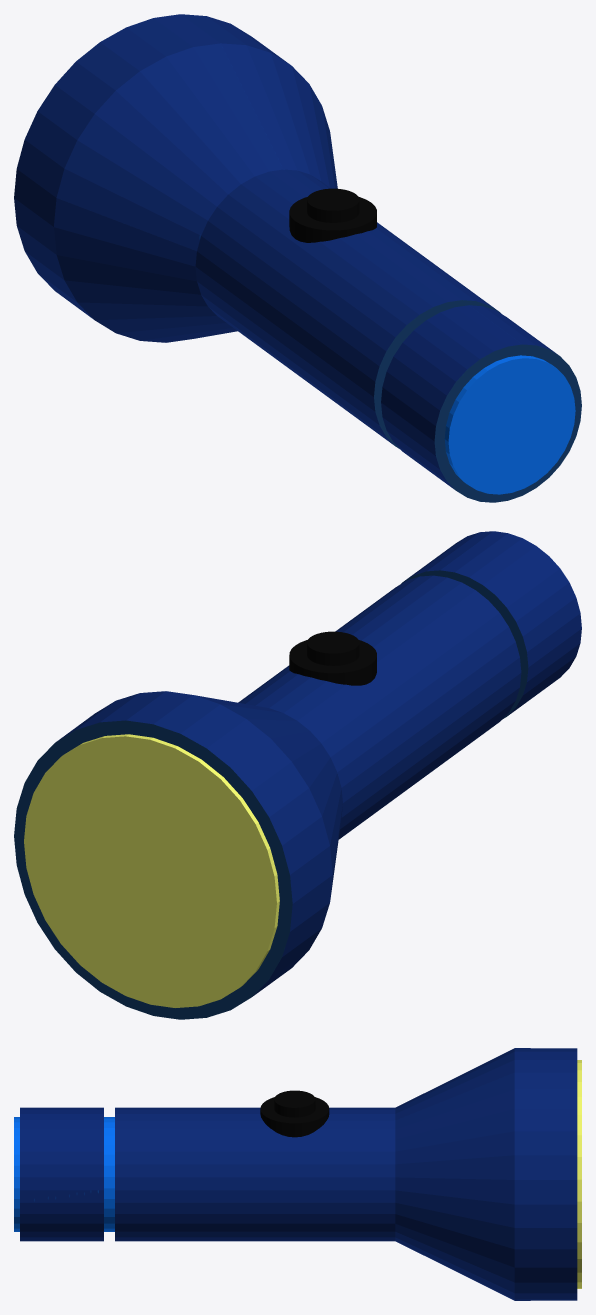
Rendered from Nocturne_Flashlight_Txtr.fbx.
3 renders of one model, top to bottom at view 1: azimuth 30°, elevation 25°; view 2: azimuth 150°, elevation 25°; view 3: azimuth 270°, elevation 25°, orthographic. The views are drawn at different scales.
Parts seen in each view (by area): view 1: Flashlight, Button; view 2: Flashlight, Button; view 3: Flashlight, Button.
Boxes of the visible parts, x1,y1,x2,y2 form: Flashlight: (14,14,581,502); Button: (289,188,376,242); Flashlight: (14,531,581,1019); Button: (289,631,376,685); Flashlight: (14,1048,581,1300); Button: (260,1090,329,1137).
Size of the model in its own units: 303 by 303 by 681.
Materials: 2 (1 with a texture image).
